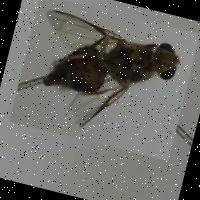Oriental-fruit-fly: (8, 0, 199, 161)
